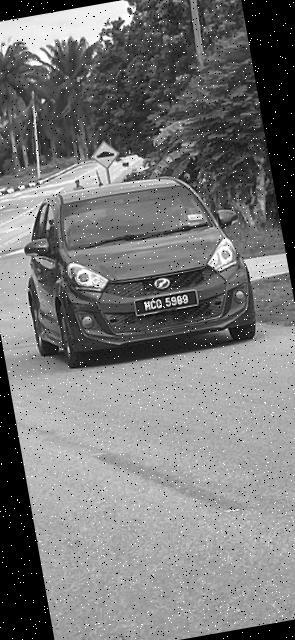License_Plate: (134, 288, 201, 317)
MCQ5989: (134, 288, 201, 317)
car: (14, 162, 260, 376)
